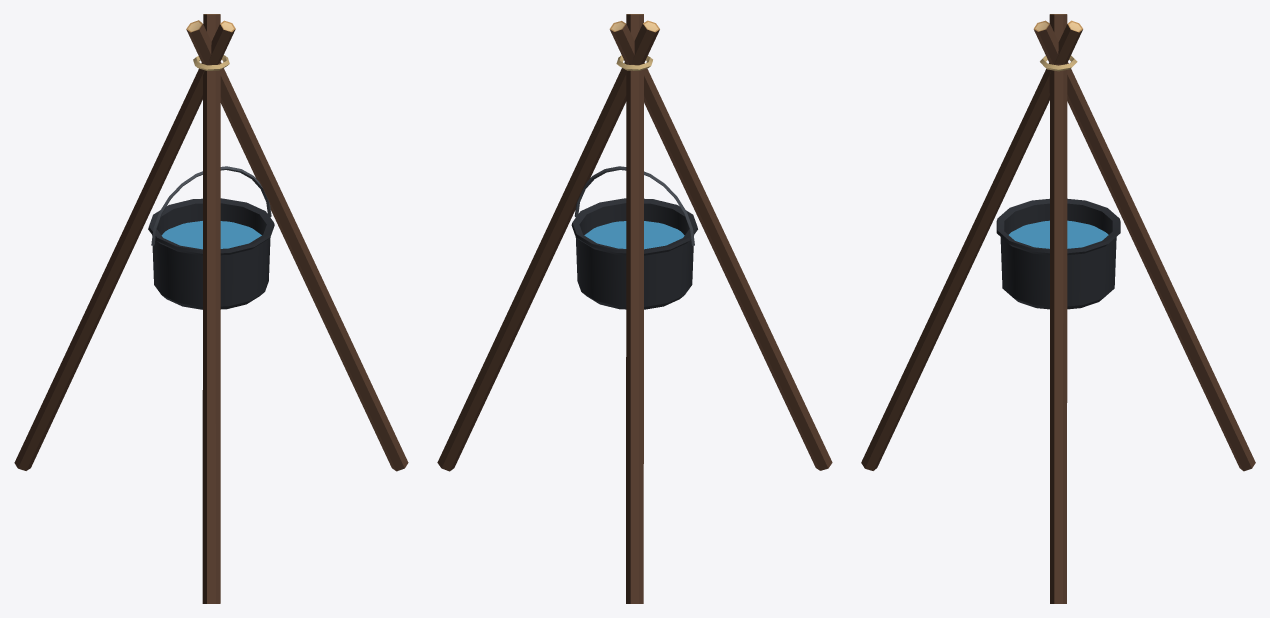
File: SM_Campfire_Tripod.glb
3 renders of one model, left to right at view 1: azimuth 30°, elevation 25°; view 2: azimuth 150°, elevation 25°; view 3: azimuth 270°, elevation 25°, orthographic.
Visible parts, largest first — view 1: SM_Campfire_Tripod; view 2: SM_Campfire_Tripod; view 3: SM_Campfire_Tripod.
Part boxes in pixels (x1,y1,x2,y2): SM_Campfire_Tripod: [14, 14, 408, 603]; SM_Campfire_Tripod: [437, 14, 832, 603]; SM_Campfire_Tripod: [861, 14, 1255, 603].
Bounding box in the file's own units: 0.8623 × 1.38 × 0.9944.
Materials: 1 (1 with a texture image).
